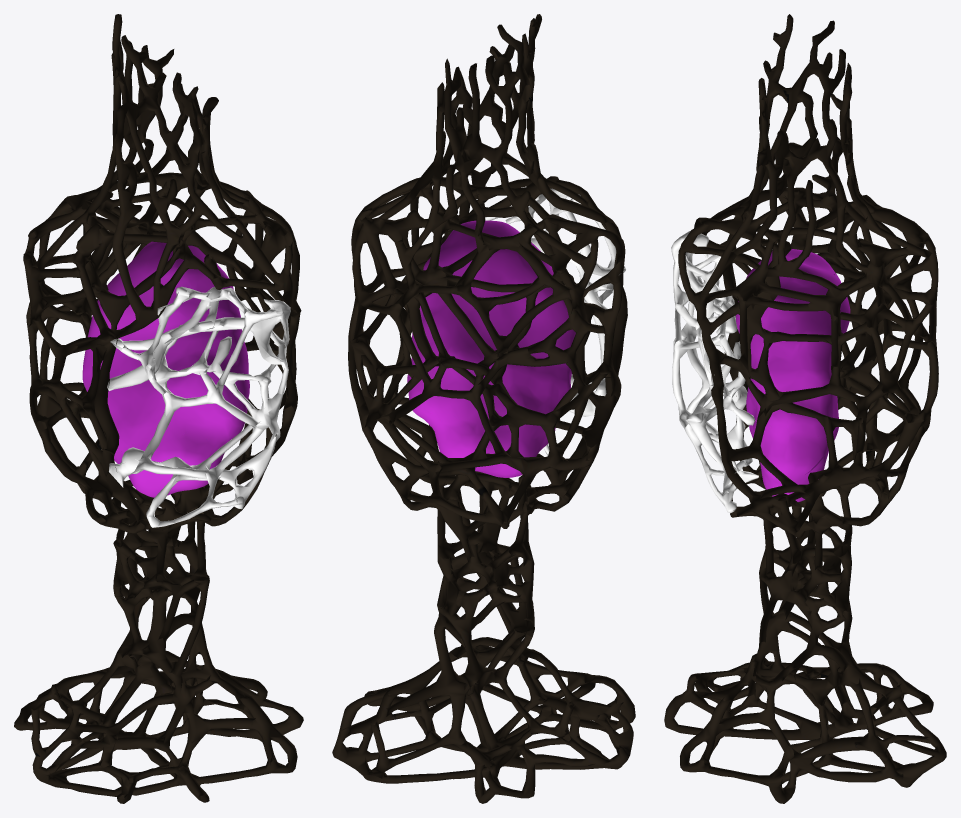
The picture shows the model from 3 angles, left to right: view 1: azimuth 30°, elevation 25°; view 2: azimuth 150°, elevation 25°; view 3: azimuth 270°, elevation 25°; orthographic projection. The views are drawn at different scales.
Parts seen in each view (by area): view 1: Default.2-defaultMat (×2), Polygon Reduction.1; view 2: Default.2-defaultMat (×2), Polygon Reduction.1; view 3: Default.2-defaultMat (×2), Polygon Reduction.1.
Boxes of the visible parts, x1,y1,x2,y2 form: Default.2-defaultMat (×2): (14, 14, 303, 803); Polygon Reduction.1: (82, 241, 249, 497); Default.2-defaultMat (×2): (332, 14, 635, 803); Polygon Reduction.1: (407, 220, 575, 477); Default.2-defaultMat (×2): (664, 14, 946, 803); Polygon Reduction.1: (735, 249, 850, 501).
Bounding box in the file's own units: 18.04 × 48.8 × 17.54.
Materials: 3 (2 with a texture image).
